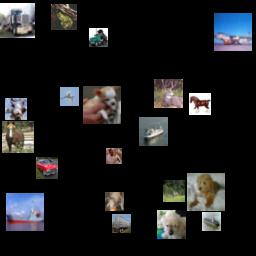airplane: (214, 13, 252, 51)
automobile: (36, 157, 58, 179)
bird: (60, 87, 79, 106)
cat: (5, 98, 27, 120)
deer: (154, 79, 183, 108), (163, 180, 185, 202)
dog: (83, 86, 121, 124), (187, 173, 225, 211), (157, 210, 186, 239), (105, 192, 124, 211), (106, 148, 122, 164)
frog: (51, 4, 77, 30)
ship: (6, 193, 44, 231), (139, 117, 168, 146), (202, 212, 221, 231)
truck: (0, 3, 35, 38), (112, 214, 131, 233), (89, 28, 108, 47)
